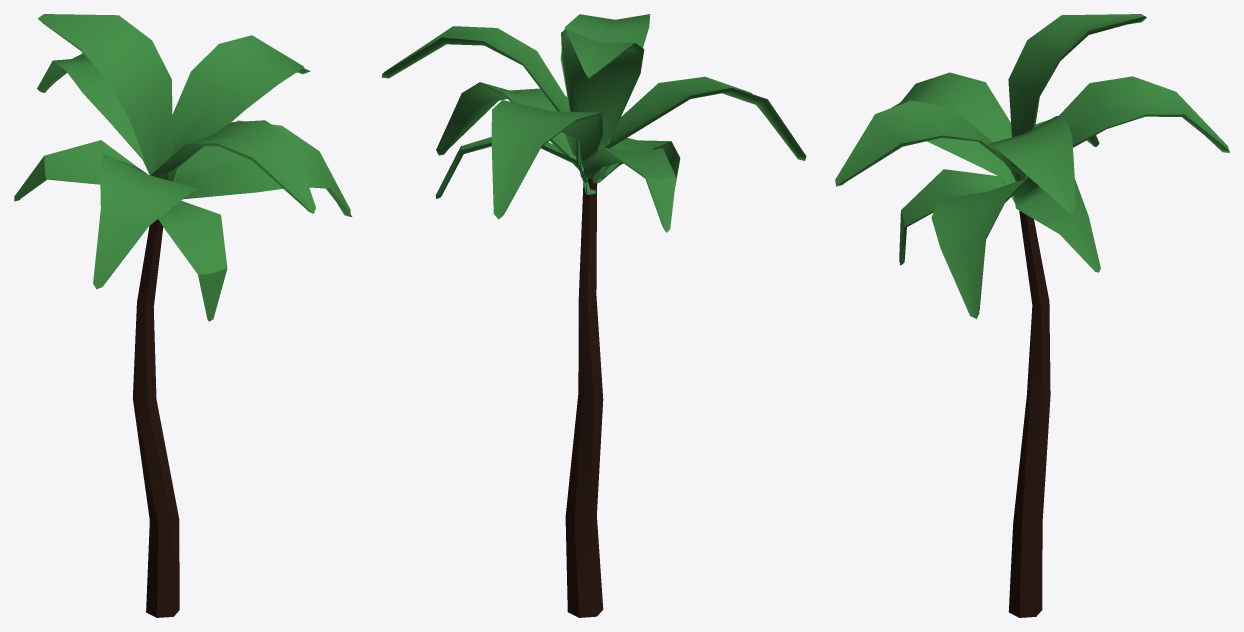
The model's file is PalmTree02.FBX.
3 renders of one model, left to right at view 1: azimuth 30°, elevation 25°; view 2: azimuth 150°, elevation 25°; view 3: azimuth 270°, elevation 25°, orthographic. The views are drawn at different scales.
Visible parts, largest first — view 1: PalmTree03; view 2: PalmTree03; view 3: PalmTree03.
Boxes of the visible parts, x1,y1,x2,y2 form: PalmTree03: (14,14,352,617); PalmTree03: (381,14,806,617); PalmTree03: (835,14,1229,617).
Size of the model in its own units: 388 by 693 by 431.
